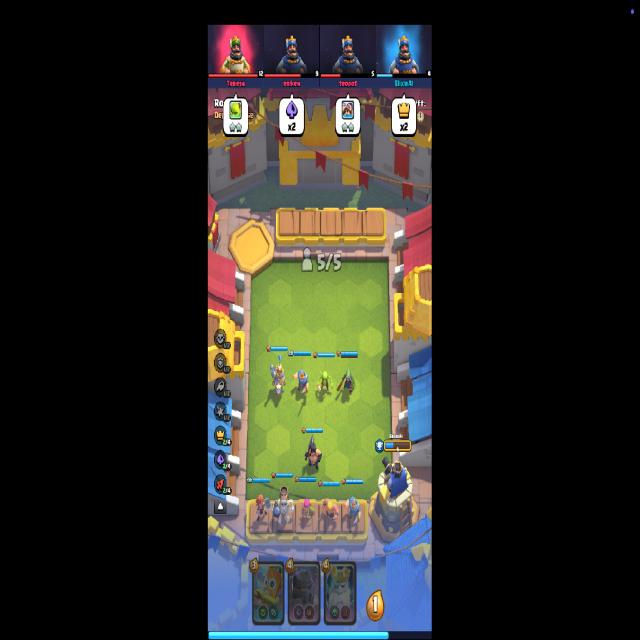archer: (300, 499, 316, 522)
bandit: (337, 367, 356, 396)
barbarian: (317, 500, 339, 528)
card_dart_goblin: (252, 561, 285, 625)
card_mega_knight: (288, 562, 321, 627)
card_royal_ghost: (324, 562, 356, 629)
executioner: (304, 434, 322, 472)
giant_skeleton: (273, 486, 294, 523)
goblin: (317, 370, 333, 394)
knight: (343, 497, 361, 524), (292, 369, 309, 393)
prince: (271, 354, 286, 396)
valkyrie: (256, 492, 272, 521)
